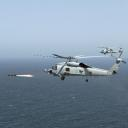helicopter: (29, 51, 115, 84), (96, 41, 125, 58)
